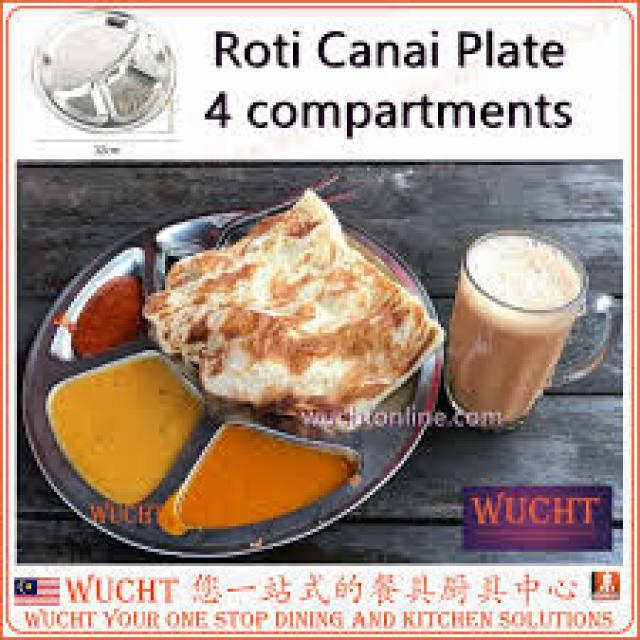Paratha: (146, 209, 433, 431)
